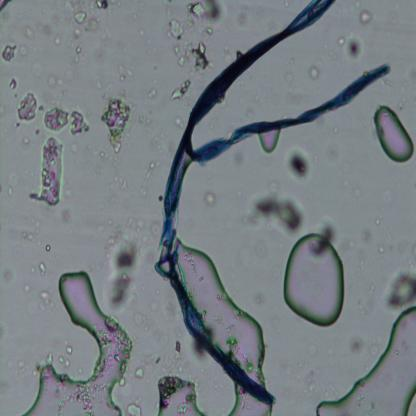Air bubble: (30, 263, 129, 416), (176, 241, 272, 367), (313, 302, 416, 416), (280, 229, 346, 331), (371, 103, 416, 170), (29, 136, 68, 204), (155, 377, 206, 416), (229, 383, 273, 416), (16, 91, 39, 122), (44, 107, 68, 134), (259, 131, 280, 156), (0, 0, 12, 11)
Background material: (244, 189, 308, 235), (100, 90, 134, 154), (107, 244, 138, 314), (97, 214, 150, 247), (382, 268, 416, 311), (186, 8, 229, 37), (287, 145, 315, 187), (150, 350, 190, 378), (232, 239, 274, 264), (191, 41, 215, 73), (297, 363, 321, 394), (314, 215, 338, 246), (338, 34, 365, 60), (38, 283, 58, 315), (66, 0, 89, 27), (356, 285, 376, 316), (168, 78, 192, 102), (161, 298, 181, 326), (174, 41, 192, 65), (167, 17, 185, 41), (0, 264, 17, 287), (133, 309, 152, 329), (73, 42, 88, 67), (0, 43, 17, 65), (346, 334, 366, 352), (19, 21, 37, 41), (144, 160, 160, 182), (309, 56, 324, 79), (29, 58, 46, 78), (287, 85, 303, 106), (117, 63, 134, 82), (139, 109, 153, 132), (127, 398, 144, 416), (190, 341, 206, 360), (6, 172, 18, 196), (36, 21, 53, 37), (250, 292, 266, 309), (156, 332, 171, 350), (50, 90, 68, 105), (59, 206, 74, 224), (327, 142, 341, 161), (355, 256, 366, 280), (368, 338, 381, 358), (83, 18, 103, 31), (359, 226, 373, 244), (48, 74, 64, 89), (91, 0, 109, 13), (150, 219, 162, 238), (68, 25, 83, 40), (233, 151, 246, 168), (205, 192, 217, 210), (114, 175, 128, 190), (305, 342, 318, 358), (6, 76, 19, 91), (236, 11, 249, 26), (0, 321, 8, 344), (173, 336, 183, 354), (103, 24, 113, 42), (17, 361, 28, 377), (375, 241, 386, 257), (361, 9, 373, 23), (267, 179, 279, 193), (133, 365, 145, 379), (112, 156, 122, 172), (22, 231, 35, 243), (59, 356, 71, 368), (145, 88, 157, 100), (174, 116, 185, 129), (375, 212, 386, 225), (139, 183, 149, 197), (0, 104, 10, 118), (150, 298, 159, 313), (38, 262, 47, 277), (101, 151, 113, 162), (341, 162, 352, 174), (351, 185, 361, 198), (117, 376, 127, 388), (23, 282, 33, 294), (70, 141, 80, 153), (398, 98, 407, 110), (285, 72, 294, 84), (19, 46, 28, 58), (53, 34, 61, 46), (35, 219, 41, 235), (332, 125, 341, 135), (352, 1, 362, 10), (64, 188, 73, 197), (340, 179, 350, 187), (22, 135, 29, 146), (65, 346, 73, 355), (44, 243, 52, 252), (348, 240, 355, 250), (139, 27, 145, 38), (77, 368, 84, 375), (30, 266, 36, 274), (13, 122, 21, 128), (35, 128, 41, 136), (158, 194, 163, 202), (0, 182, 3, 192)
Diatom: (153, 0, 389, 407)
Glass filter fibre: (69, 109, 88, 135)
